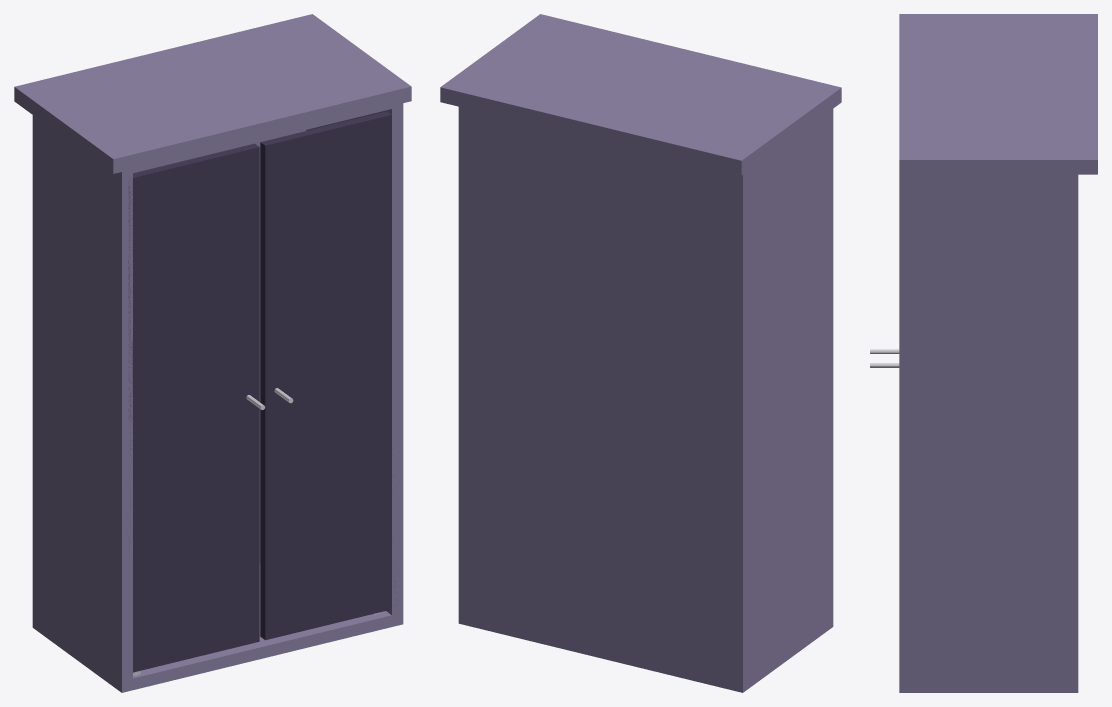
File: deco_armadio_01.glb
The picture shows the model from 3 angles, left to right: view 1: azimuth 30°, elevation 25°; view 2: azimuth 150°, elevation 25°; view 3: azimuth 270°, elevation 25°; orthographic projection.
Parts seen in each view (by area): view 1: deco_armadio_01; view 2: deco_armadio_01; view 3: deco_armadio_01.
Boxes of the visible parts, x1,y1,x2,y2 form: deco_armadio_01: [14, 14, 411, 692]; deco_armadio_01: [440, 14, 841, 692]; deco_armadio_01: [870, 14, 1097, 692].
Bounding box in the file's own units: 1.06 × 1.82 × 0.7.
